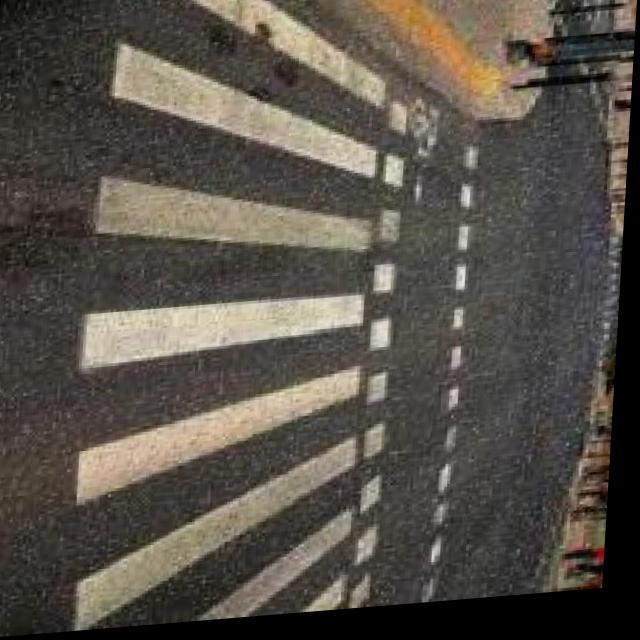zebra: (39, 0, 400, 634), (578, 239, 627, 379), (553, 0, 617, 46)
